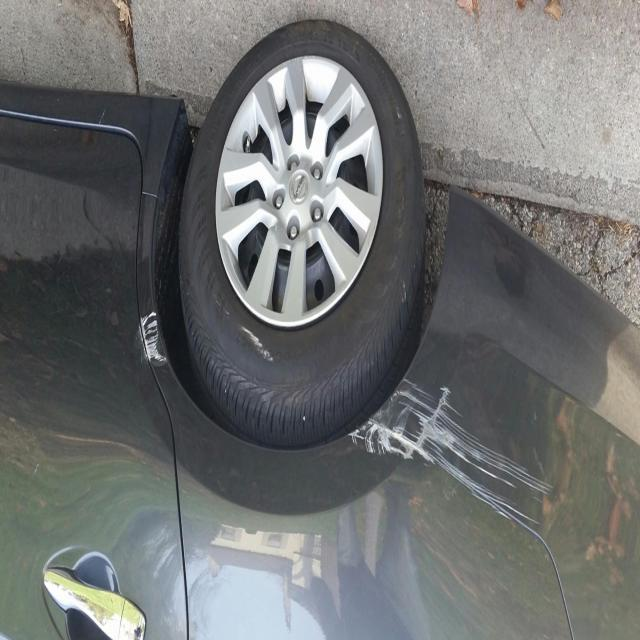scratch: (349, 377, 564, 557), (130, 296, 166, 374)
